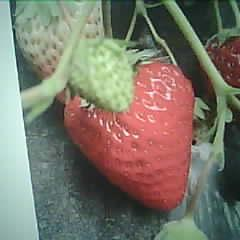straw-ripe: (64, 63, 196, 212)
